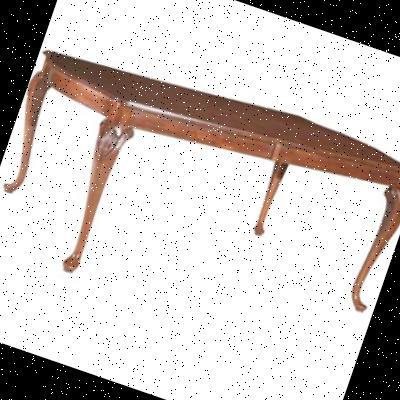Mesa: (0, 31, 399, 372)
